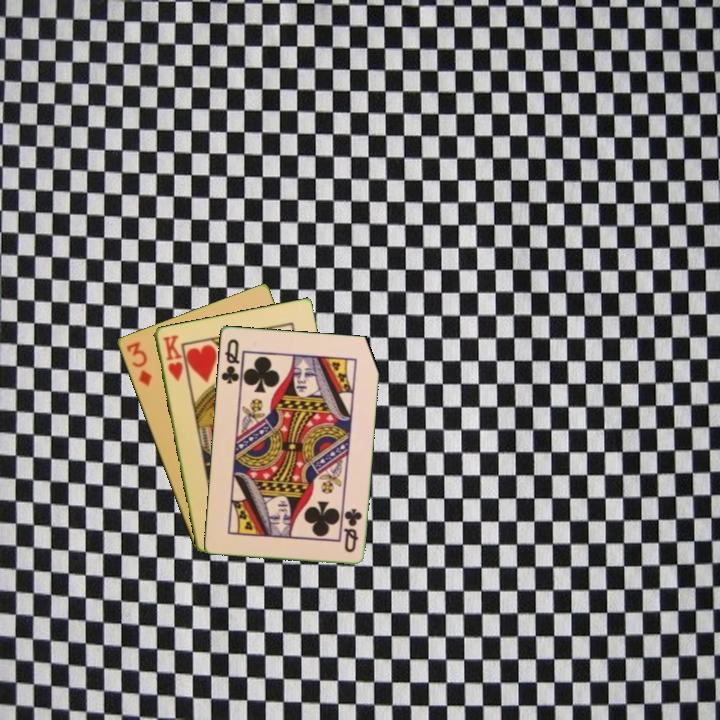3d: (123, 338, 154, 389)
Kh: (159, 331, 186, 384)
Qc: (217, 335, 244, 389), (340, 505, 364, 555)
